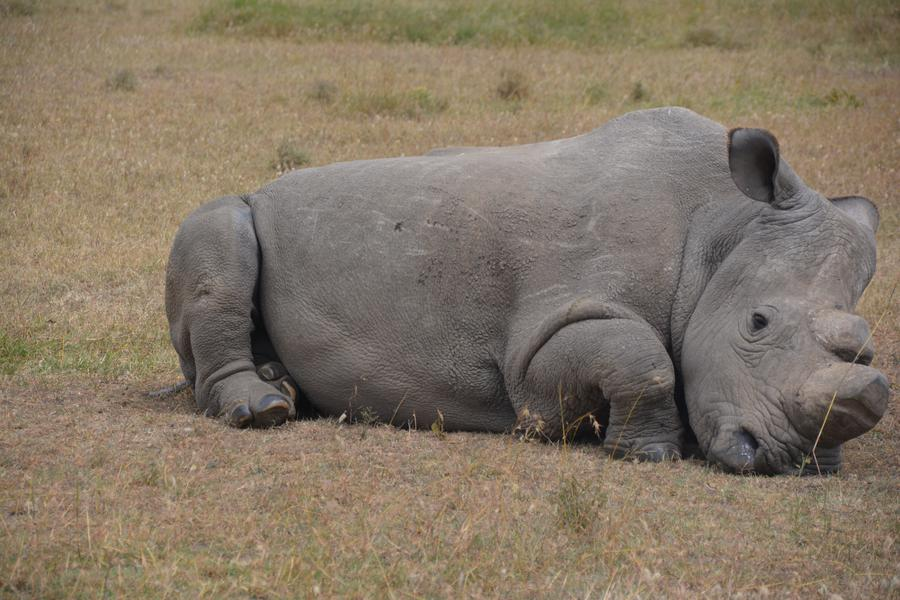rhino: (218, 100, 842, 472)
